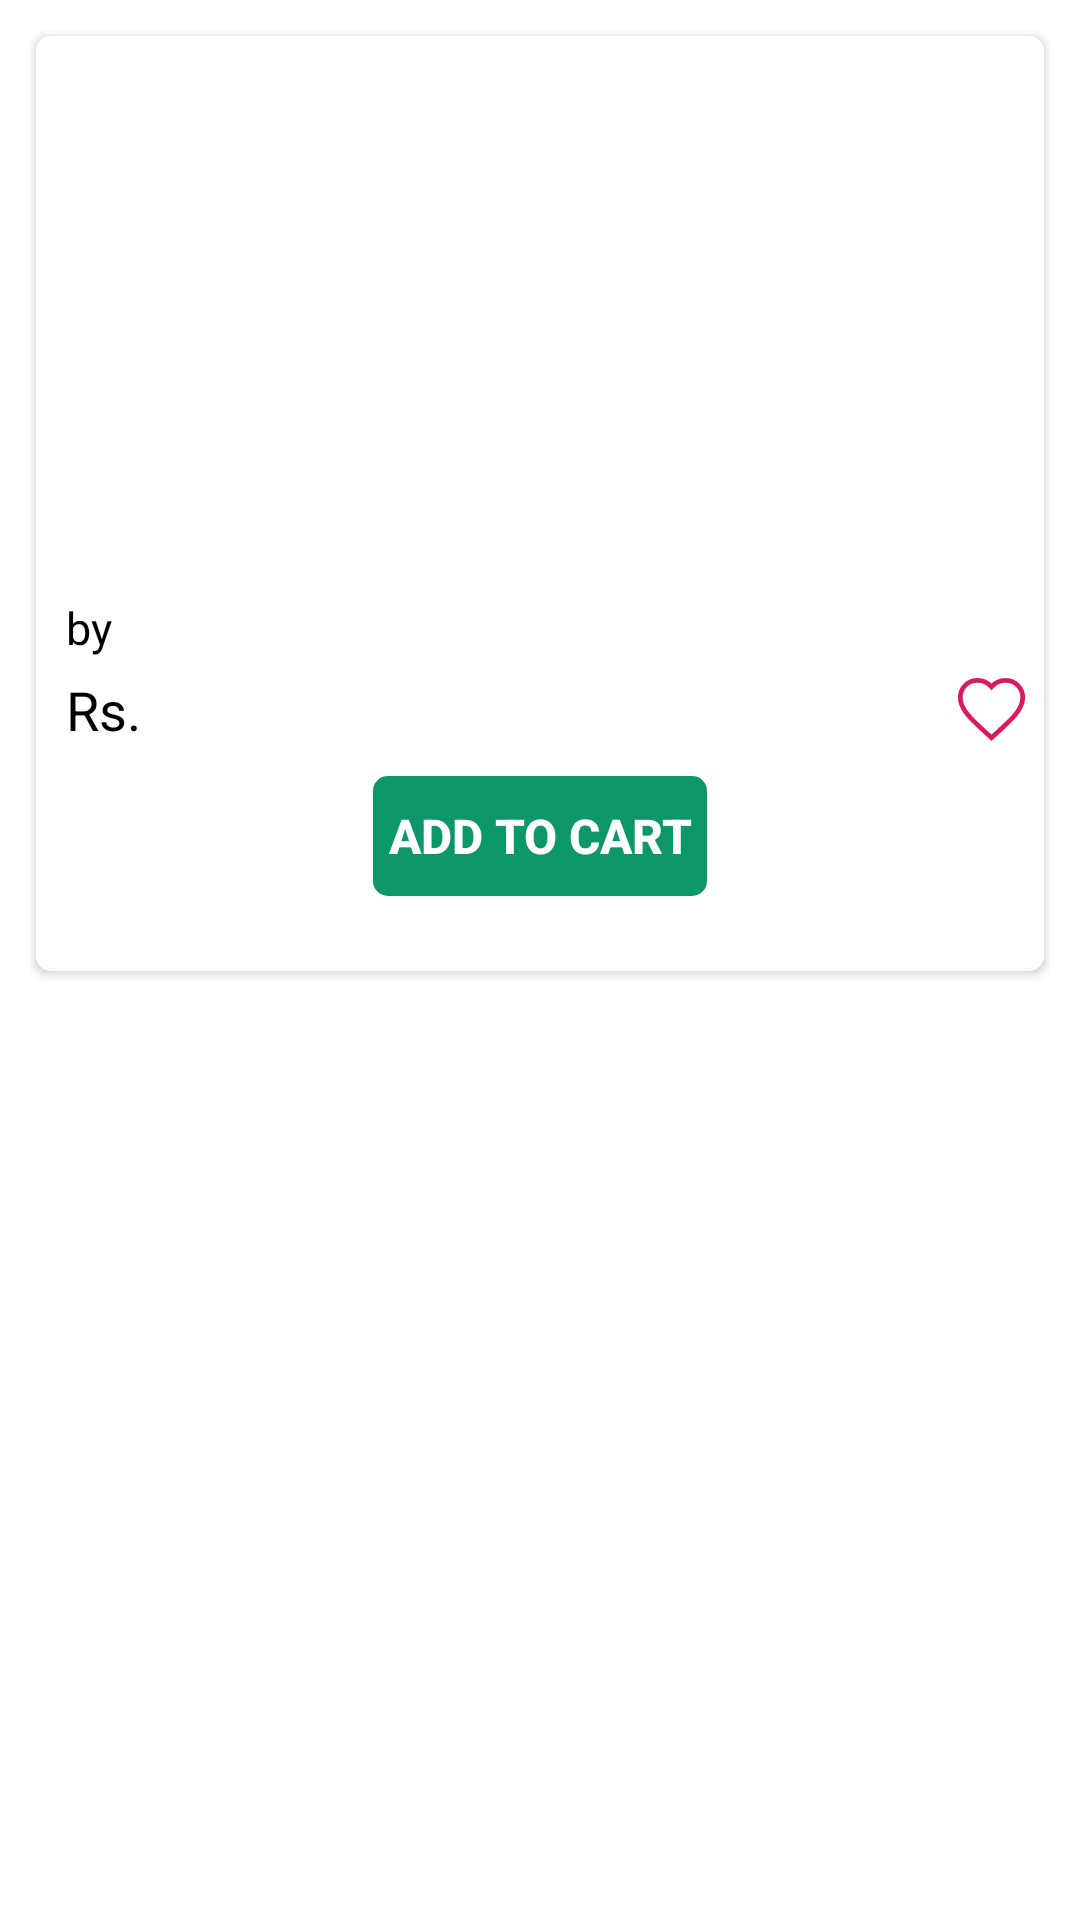

Named icons in this screenshot (1080px×1920px) and their centers, [x,y]:
wishlist: [991,709]
